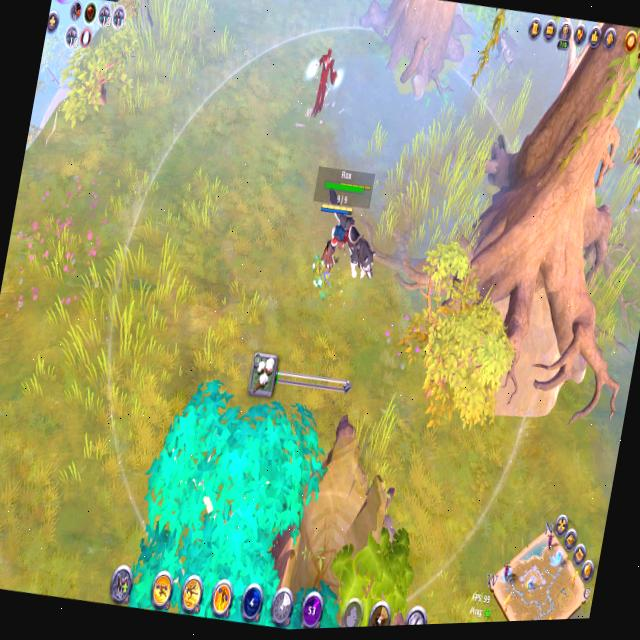ore: (294, 34, 352, 133)
red: (302, 196, 358, 298)
wisp caged: (106, 354, 383, 636)
